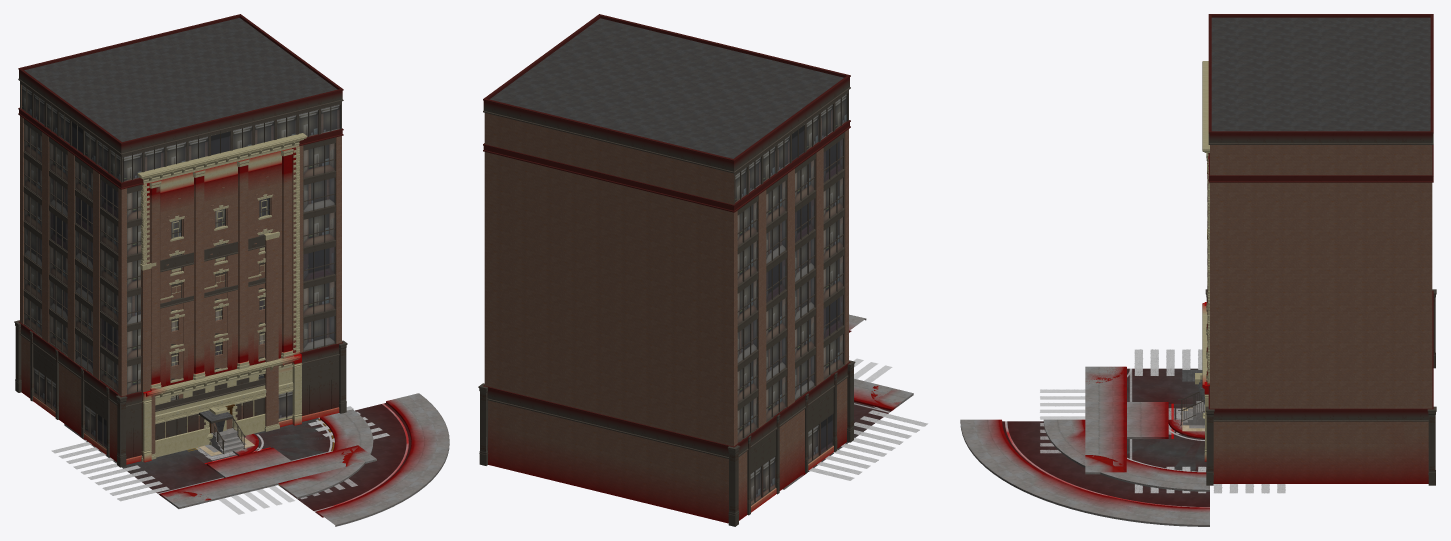
File: city.glb
3 views of the same model, side by side, from view 1: azimuth 30°, elevation 25°; view 2: azimuth 150°, elevation 25°; view 3: azimuth 270°, elevation 25° (orthographic). The views are drawn at different scales.
Parts seen in each view (by area): view 1: Building_Large_2, Building_Medium_2.001, Building_Small_1, Street_Curve_4LaneShort, Street_TIntersection, Street_4WayIntersection, Street_Curve_2Lane, Street_Curve_4Lane_Short_Curb, Street_2Lane; view 2: Building_Large_2, Street_TIntersection, Street_4WayIntersection; view 3: Building_Large_2, Street_Curve_4LaneShort, Street_TIntersection, Street_4WayIntersection, Street_Curve_4Lane_Short_Curb, Street_Curve_2Lane, Street_Curve_2Lane_Curb, Building_Medium_2.001, Street_2Lane.
Boxes of the visible parts, bbox=[...] form: Building_Large_2: bbox=[14, 14, 347, 467]; Building_Medium_2.001: bbox=[137, 133, 306, 462]; Building_Small_1: bbox=[140, 231, 279, 461]; Street_Curve_4LaneShort: bbox=[232, 393, 449, 526]; Street_TIntersection: bbox=[52, 406, 389, 508]; Street_4WayIntersection: bbox=[52, 406, 389, 514]; Street_Curve_2Lane: bbox=[236, 409, 373, 498]; Street_Curve_4Lane_Short_Curb: bbox=[330, 393, 449, 516]; Street_2Lane: bbox=[187, 447, 291, 477]; Building_Large_2: bbox=[478, 14, 855, 526]; Street_TIntersection: bbox=[793, 378, 927, 481]; Street_4WayIntersection: bbox=[782, 356, 926, 489]; Building_Large_2: bbox=[1205, 14, 1436, 485]; Street_Curve_4LaneShort: bbox=[960, 419, 1209, 515]; Street_TIntersection: bbox=[1085, 349, 1284, 492]; Street_4WayIntersection: bbox=[1040, 349, 1285, 493]; Street_Curve_4Lane_Short_Curb: bbox=[960, 422, 1209, 526]; Street_Curve_2Lane: bbox=[1043, 419, 1209, 491]; Street_Curve_2Lane_Curb: bbox=[1043, 420, 1209, 491]; Building_Medium_2.001: bbox=[1202, 61, 1209, 461]; Street_2Lane: bbox=[1127, 402, 1173, 438].
Bounding box in the file's own units: 30.33 × 28.2 × 34.32.
Materials: 15 (13 with a texture image).
